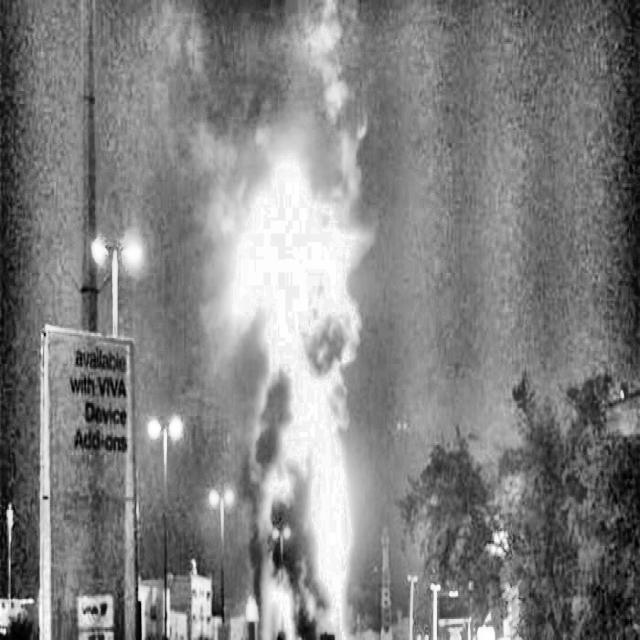fire: (188, 119, 420, 634)
